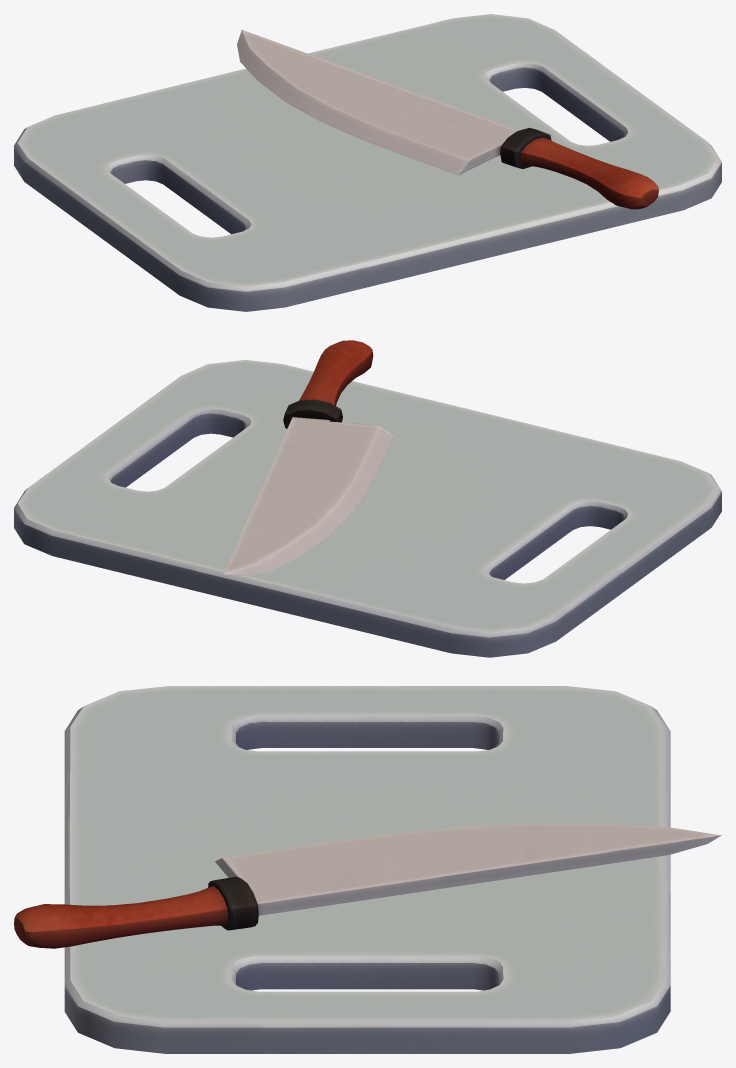
The model's file is cutting_board.glb.
3 renders of one model, top to bottom at view 1: azimuth 30°, elevation 25°; view 2: azimuth 150°, elevation 25°; view 3: azimuth 270°, elevation 25°, orthographic. The views are drawn at different scales.
Parts seen in each view (by area): view 1: utensils_board.001; view 2: utensils_board.001; view 3: utensils_board.001.
Part boxes in pixels (box(x1,y1,x2,y2)): utensils_board.001: box(14, 14, 721, 311); utensils_board.001: box(14, 340, 721, 657); utensils_board.001: box(14, 686, 721, 1053).
Size of the model in its own units: 1.58 by 0.1498 by 1.4.
1 material, 1 textured.
